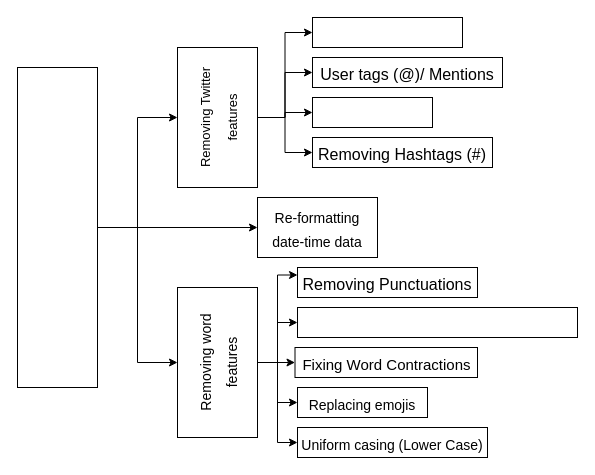
The diagram is 595 pixels wide and 475 high, and some of its shapes have lost their labels. Each missing label, with the centre of its shape:
"Data Cleaninig" goes at (57,227).
"Removing unnecessary character repitition" goes at (437,322).
"RT tags (Retweets)" goes at (387,32).
"URLs Linked" goes at (372,112).
